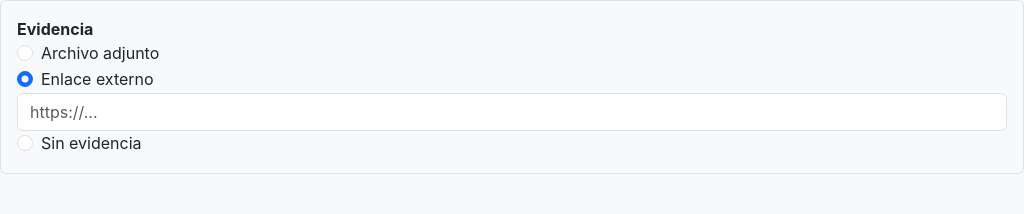
Test: EvidenciaInput › rechaza enlace con scheme javascript:
Type "javascript:alert(1)" into the field named "Enlace de evidencia".
click(512, 112); type("javascript:alert(1)")  # box [17, 93, 1007, 131]
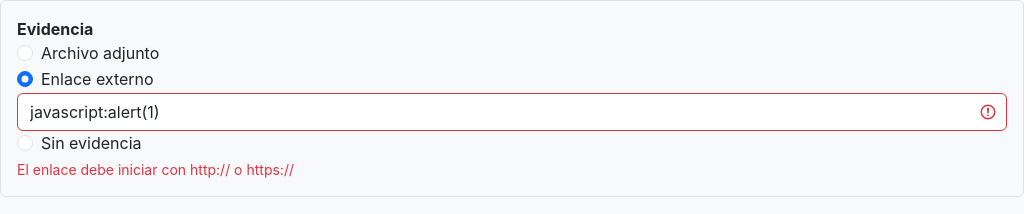
Expected: the message "El enlace debe iniciar con http:// o https://" is shown, [17, 161, 294, 178]
